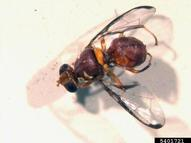Fruit fly: (46, 14, 165, 125)
